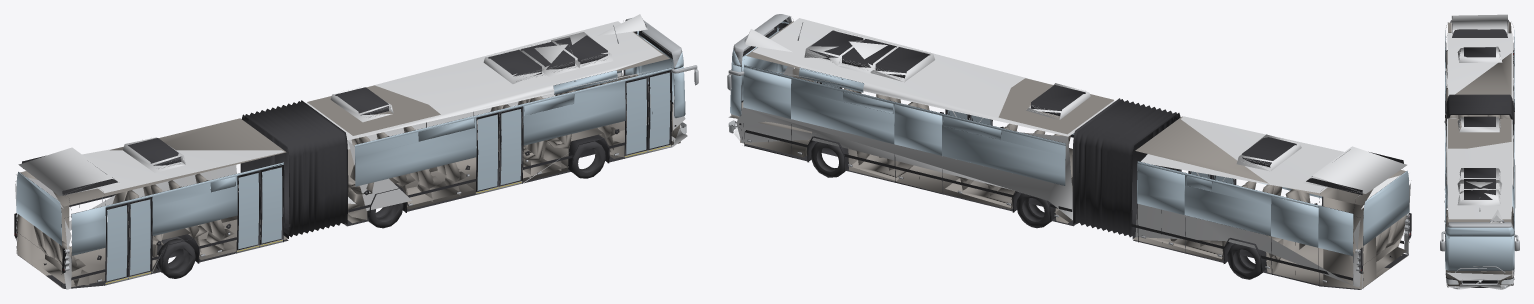
File: archmodels55-14.glb
The picture shows the model from 3 angles, left to right: view 1: azimuth 30°, elevation 25°; view 2: azimuth 150°, elevation 25°; view 3: azimuth 270°, elevation 25°; orthographic projection. The views are drawn at different scales.
Parts seen in each view (by area): view 1: Archmodels55_14_glass, Archmodels55_14_carpaint, Archmodels55_14_seats, Archmodels55_14_black, Archmodels55_14_black2, Archmodels55_14_tires, Archmodels55_14_front_details, Archmodels55_14_chrome2; view 2: Archmodels55_14_carpaint, Archmodels55_14_glass, Archmodels55_14_seats, Archmodels55_14_black, Archmodels55_14_black2, Archmodels55_14_tires, Archmodels55_14_front_details; view 3: Archmodels55_14_carpaint, Archmodels55_14_glass, Archmodels55_14_seats, Archmodels55_14_black2, Archmodels55_14_black, Archmodels55_14_front_details, Archmodels55_14_headlights_glass.001, Archmodels55_14_chrome2.
Boxes of the visible parts, <box> form: Archmodels55_14_glass: <box>16,31,685,281</box>; Archmodels55_14_carpaint: <box>15,14,687,289</box>; Archmodels55_14_seats: <box>16,31,680,288</box>; Archmodels55_14_black: <box>22,70,676,282</box>; Archmodels55_14_black2: <box>14,30,677,288</box>; Archmodels55_14_tires: <box>156,141,605,278</box>; Archmodels55_14_front_details: <box>613,18,698,85</box>; Archmodels55_14_chrome2: <box>105,125,682,285</box>; Archmodels55_14_carpaint: <box>728,18,1410,288</box>; Archmodels55_14_glass: <box>730,21,1409,255</box>; Archmodels55_14_seats: <box>731,21,1407,288</box>; Archmodels55_14_black: <box>739,81,1403,282</box>; Archmodels55_14_black2: <box>733,19,1411,289</box>; Archmodels55_14_tires: <box>811,142,1261,279</box>; Archmodels55_14_front_details: <box>727,14,803,90</box>; Archmodels55_14_carpaint: <box>1444,14,1515,289</box>; Archmodels55_14_glass: <box>1445,30,1514,270</box>; Archmodels55_14_seats: <box>1446,22,1512,287</box>; Archmodels55_14_black2: <box>1445,20,1514,288</box>; Archmodels55_14_black: <box>1445,16,1514,241</box>; Archmodels55_14_front_details: <box>1440,197,1519,272</box>; Archmodels55_14_headlights_glass.001: <box>1446,278,1513,284</box>; Archmodels55_14_chrome2: <box>1461,279,1498,284</box>.
Size of the model in its own units: 18.3 by 3.46 by 2.93.
